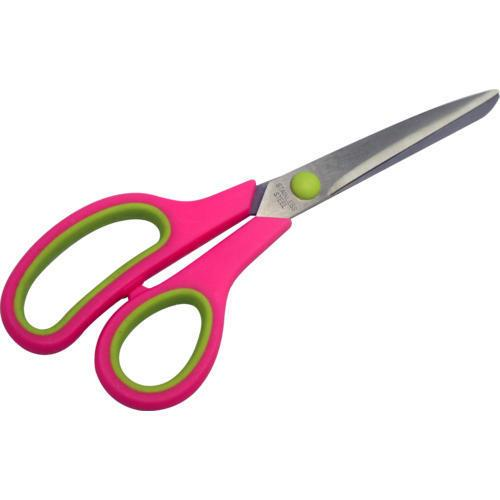Scissors: (0, 76, 500, 427)
